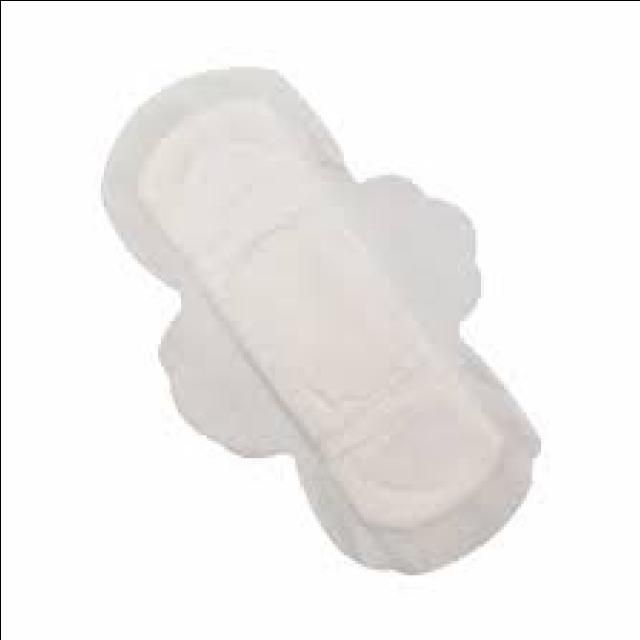napkin: (101, 70, 538, 572)
